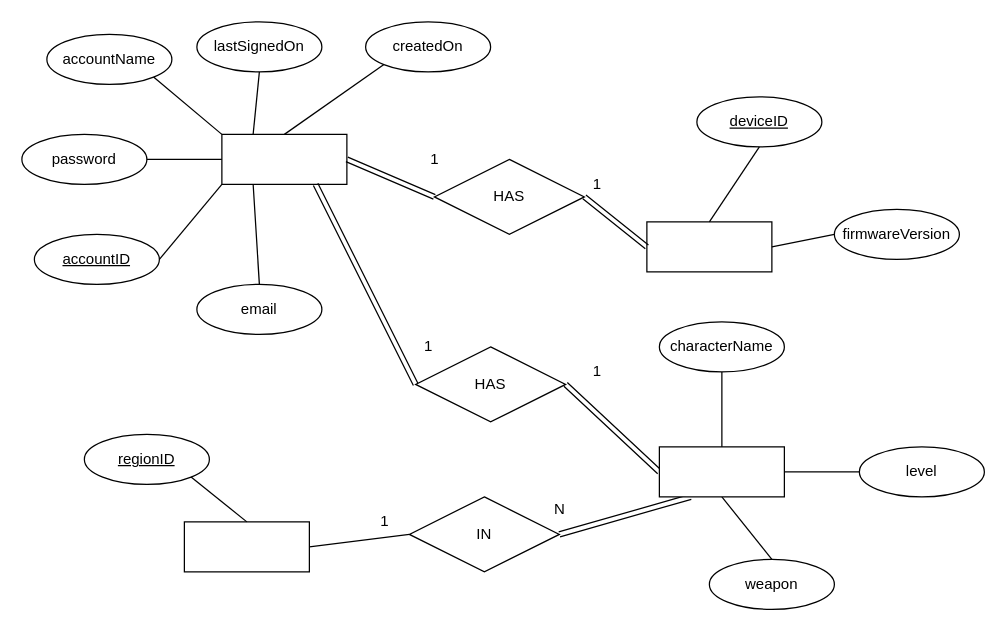
The diagram is 1006 pixels wide and 631 high, and some of its shapes have lost their labels. Here are the shapes that lost their labels. From the top down, the centre of each, then its label:
At (x=284, y=158): "ACCOUNT".
At (x=709, y=246): "MAINUNIT".
At (x=721, y=471): "CHARACTER".
At (x=246, y=546): "REGION".
